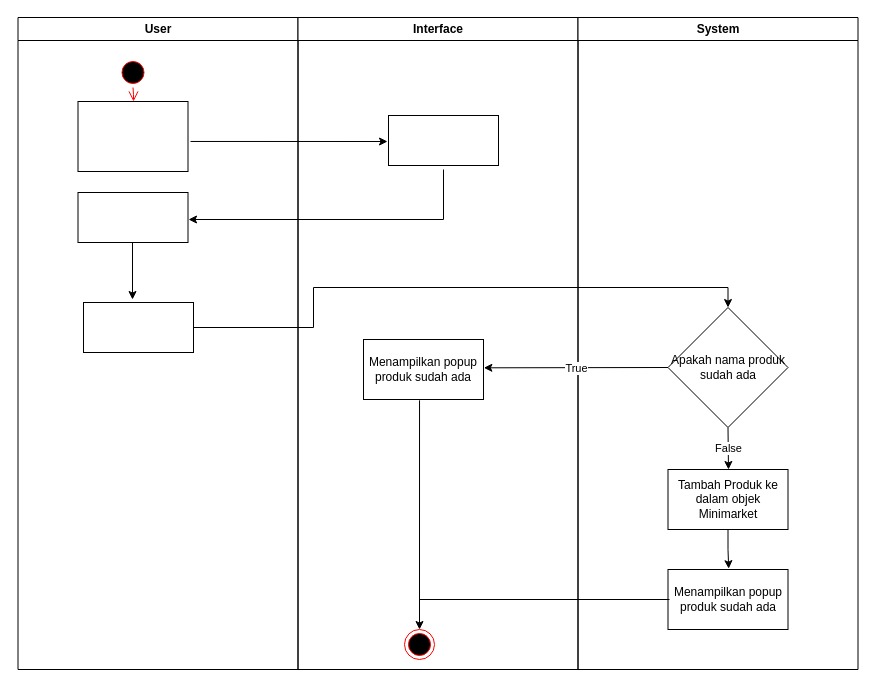
The diagram is 875 pixels wide and 687 high, and some of its shapes have lost their labels. The centre of each missing label's shape, as x and y in pixels:
Klik button Tambah Produk: point (138, 327)
Menampilkan Form Tambah Produk: point (443, 140)
Mengisi seluruh field form: point (132, 217)
User menekan tombol "Tambah Produk baru": point (132, 136)
